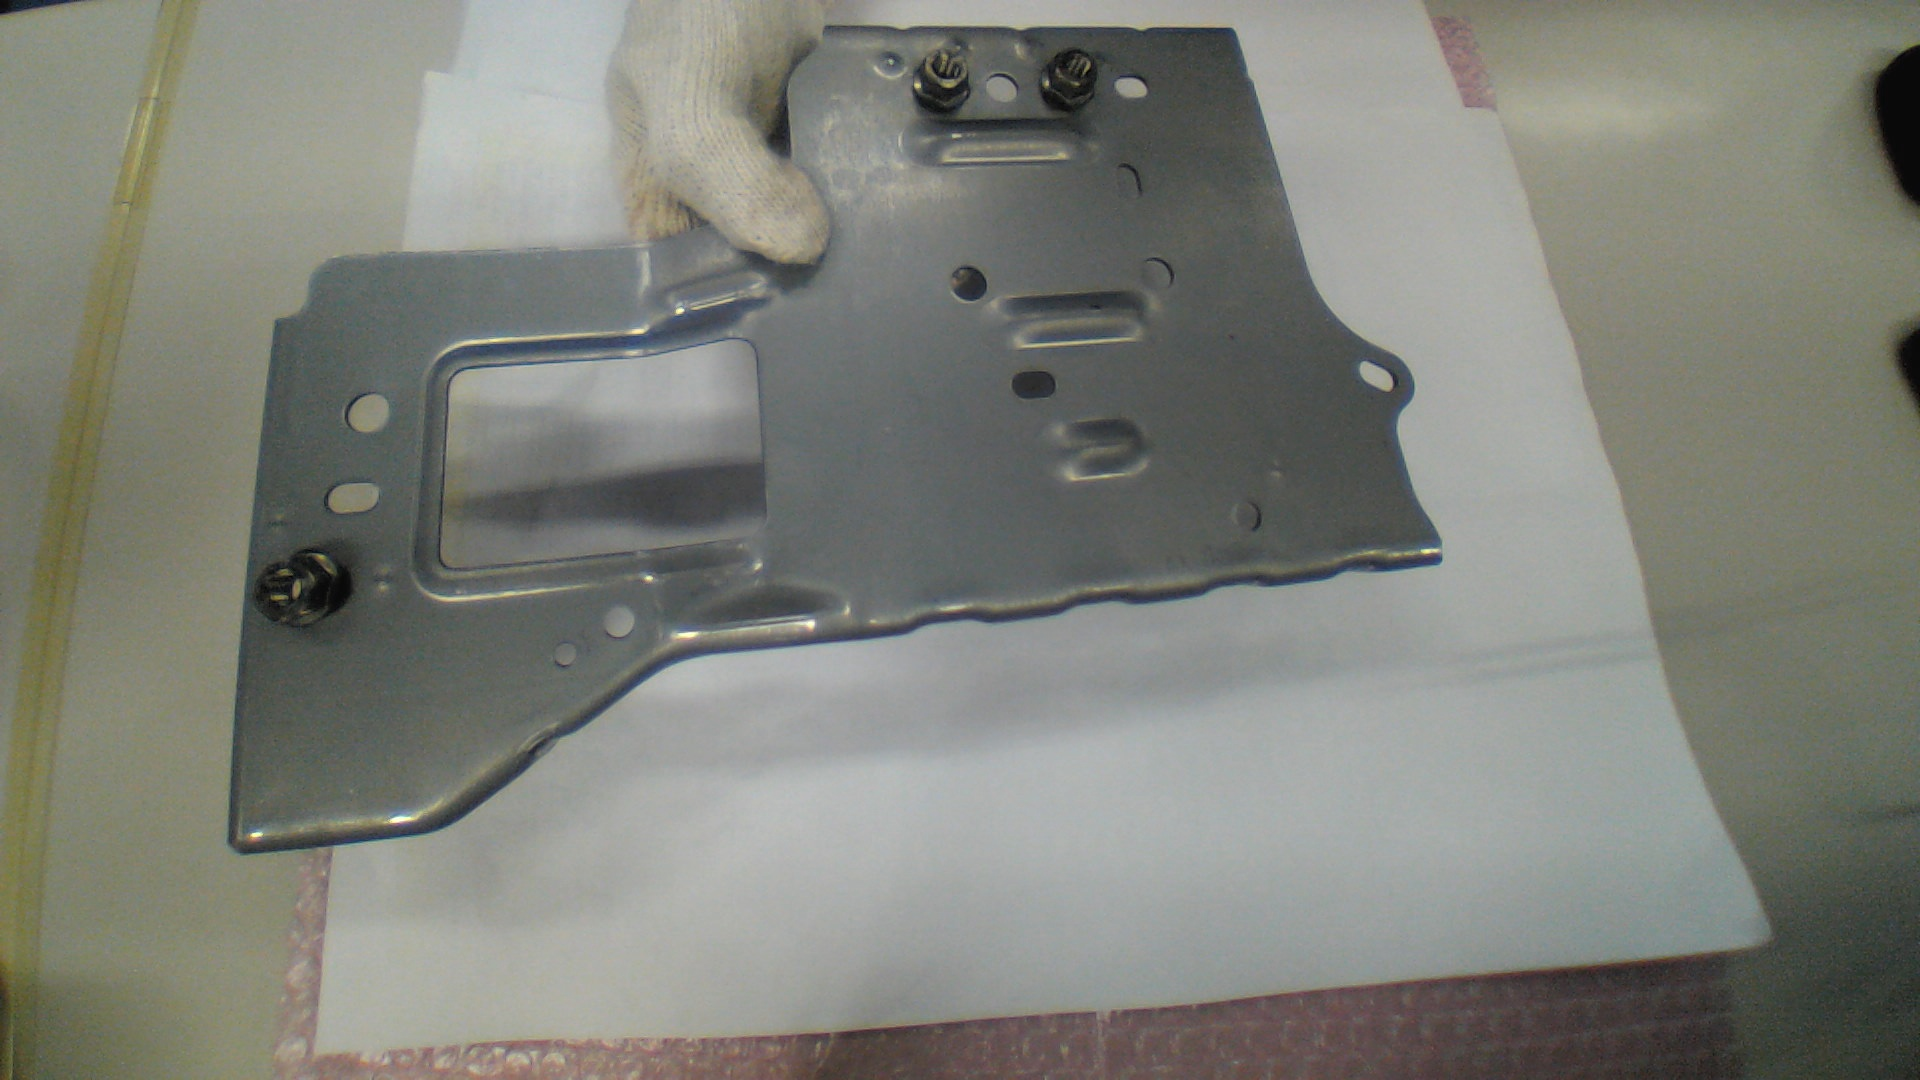dog: (255, 550, 353, 630), (911, 50, 973, 112), (1040, 47, 1101, 109)
